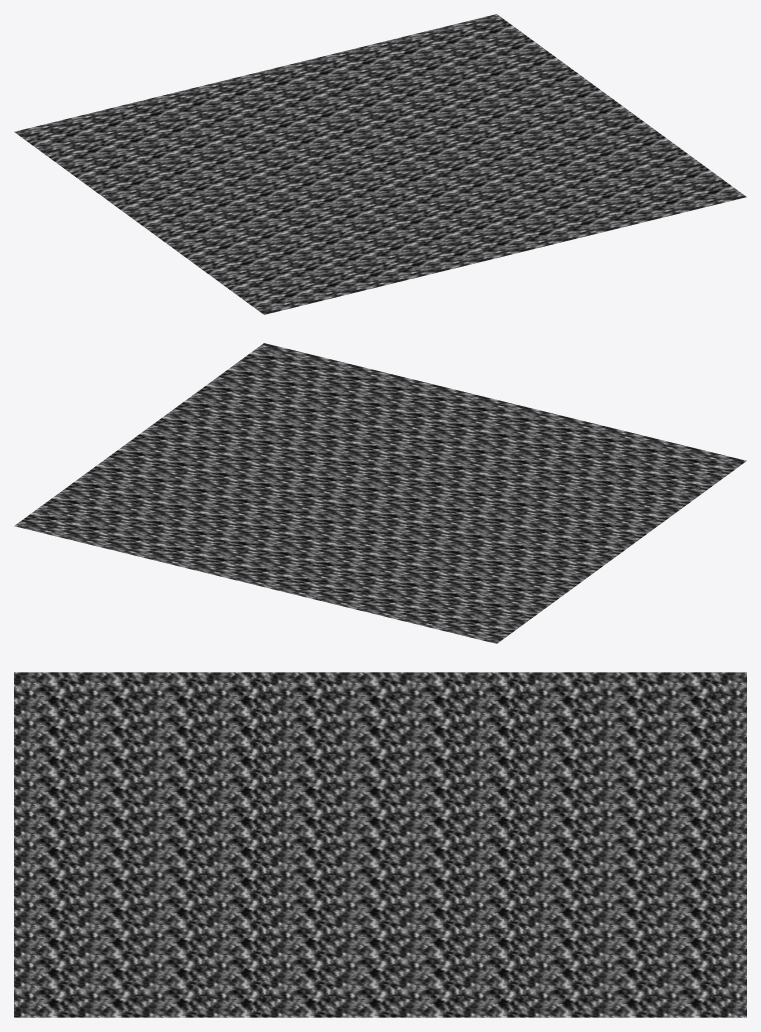
The model's file is Town.gltf.
The picture shows the model from 3 angles, top to bottom: view 1: azimuth 30°, elevation 25°; view 2: azimuth 150°, elevation 25°; view 3: azimuth 270°, elevation 25°; orthographic projection. The views are drawn at different scales.
Visible parts, largest first — view 1: Clouds; view 2: Clouds; view 3: Clouds.
Boxes of the visible parts, box(x1,y1,x2,y2) form: Clouds: box(14, 14, 746, 314); Clouds: box(14, 343, 746, 643); Clouds: box(14, 672, 746, 1017).
Size of the model in its own units: 12932 by 592 by 11601.
Materials: 10 (10 with a texture image).
